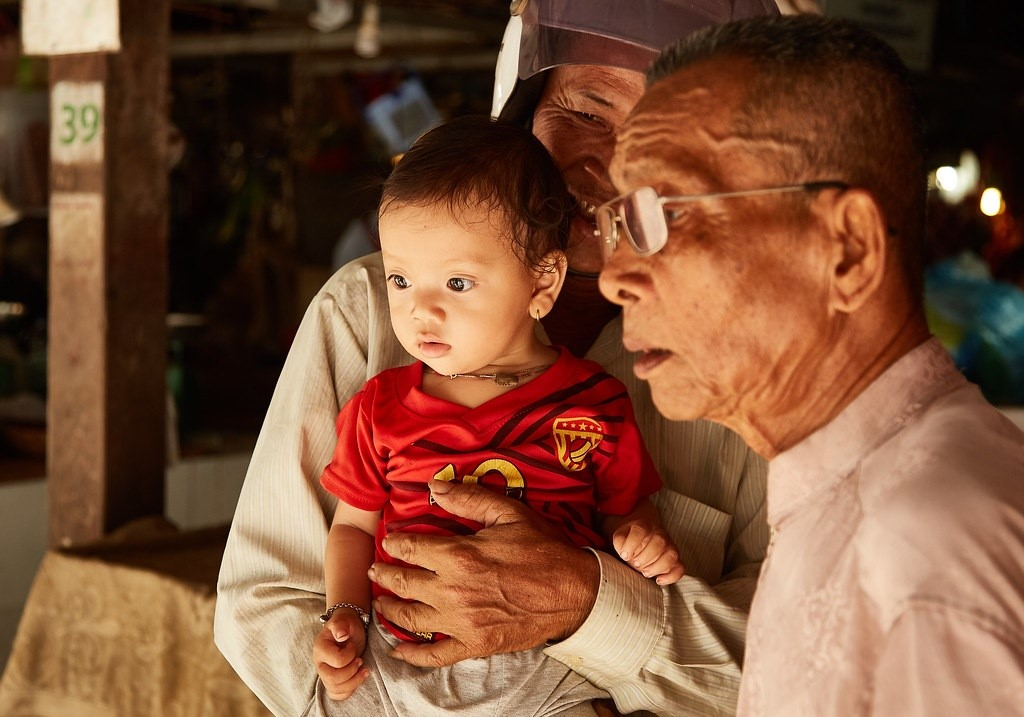face_no_mask: (602, 38, 902, 431), (372, 119, 564, 379)
